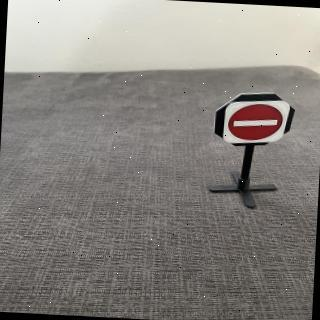sign_noentry: (222, 97, 293, 149)
